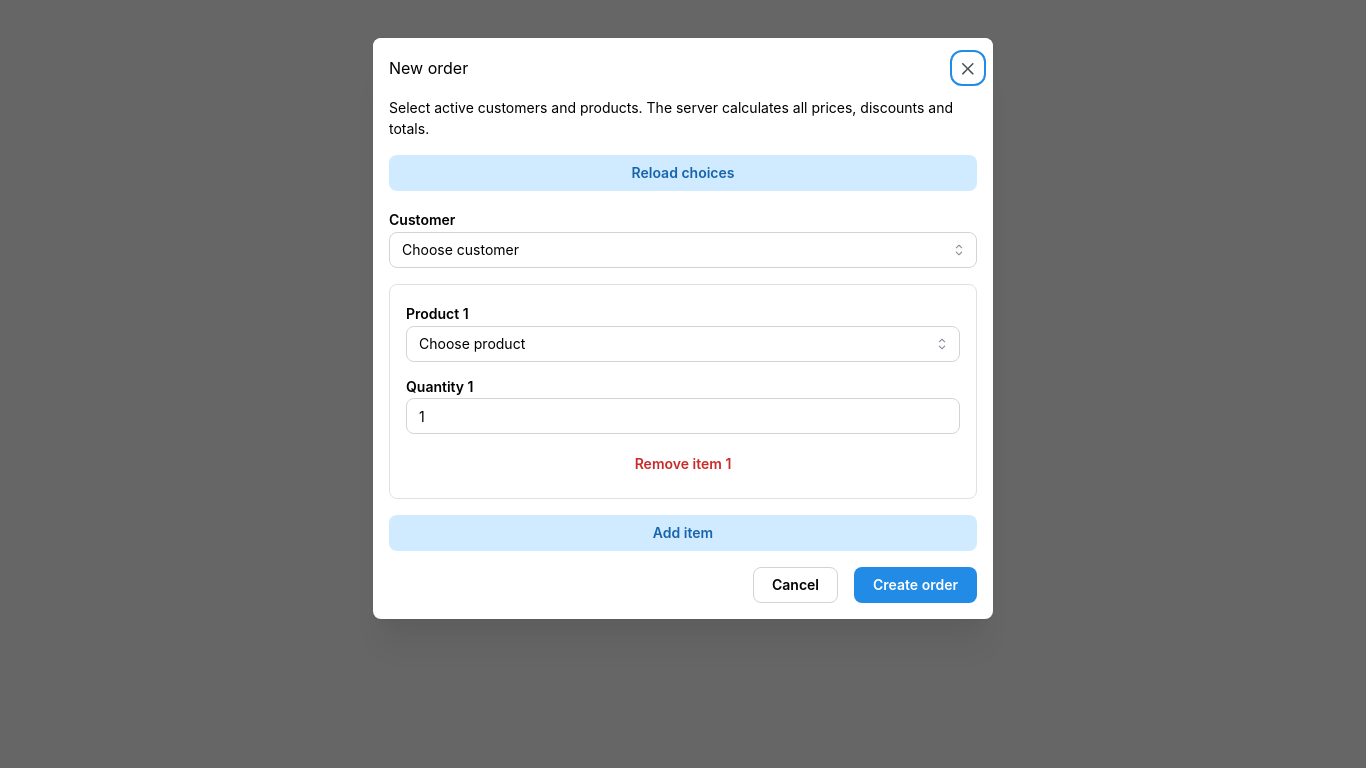
order integration › retains draft on missing creation failure without replay
Select "Current Customer (current@example.invalid)" in the dropdown labelled "Customer" at (683, 250), box [389,232,977,268]
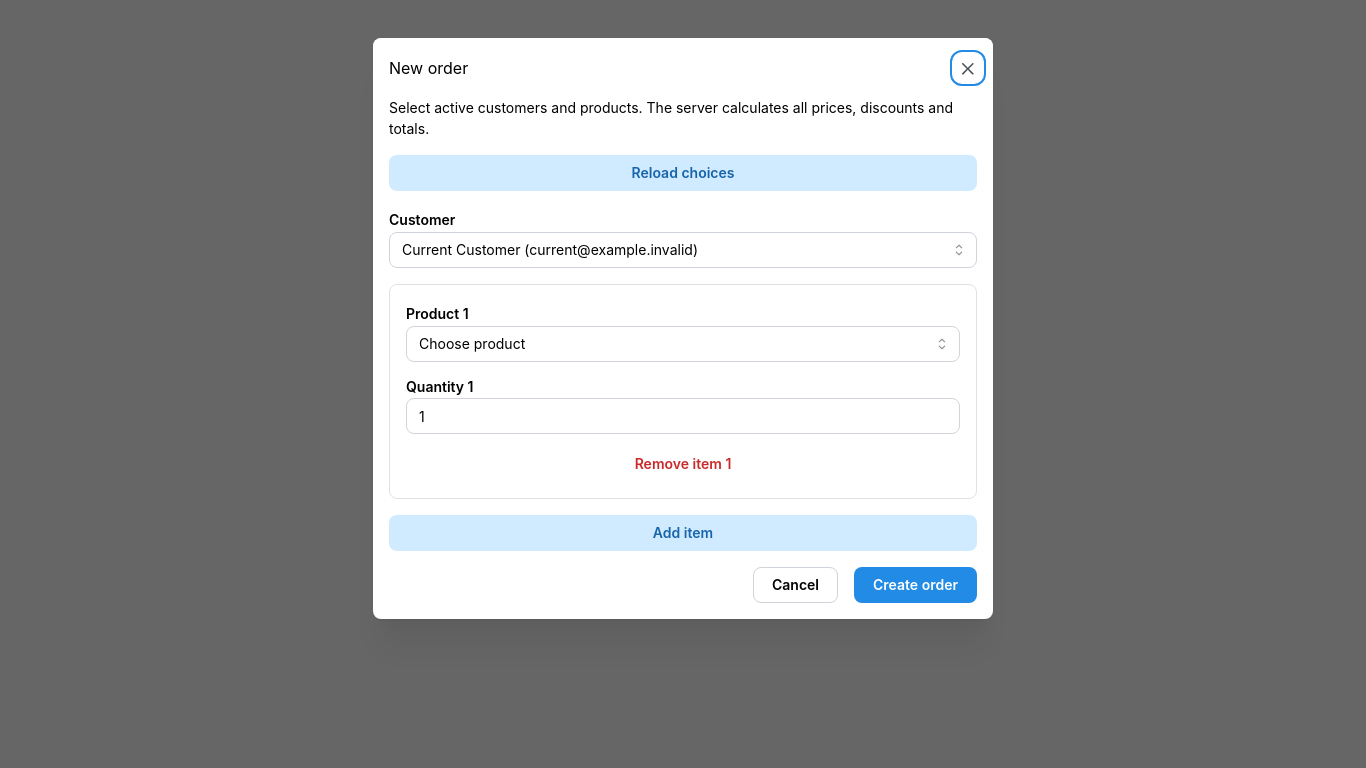
Select "Current Catalog Name" in the dropdown labelled "Product 1" at (683, 344), box [406,326,960,362]
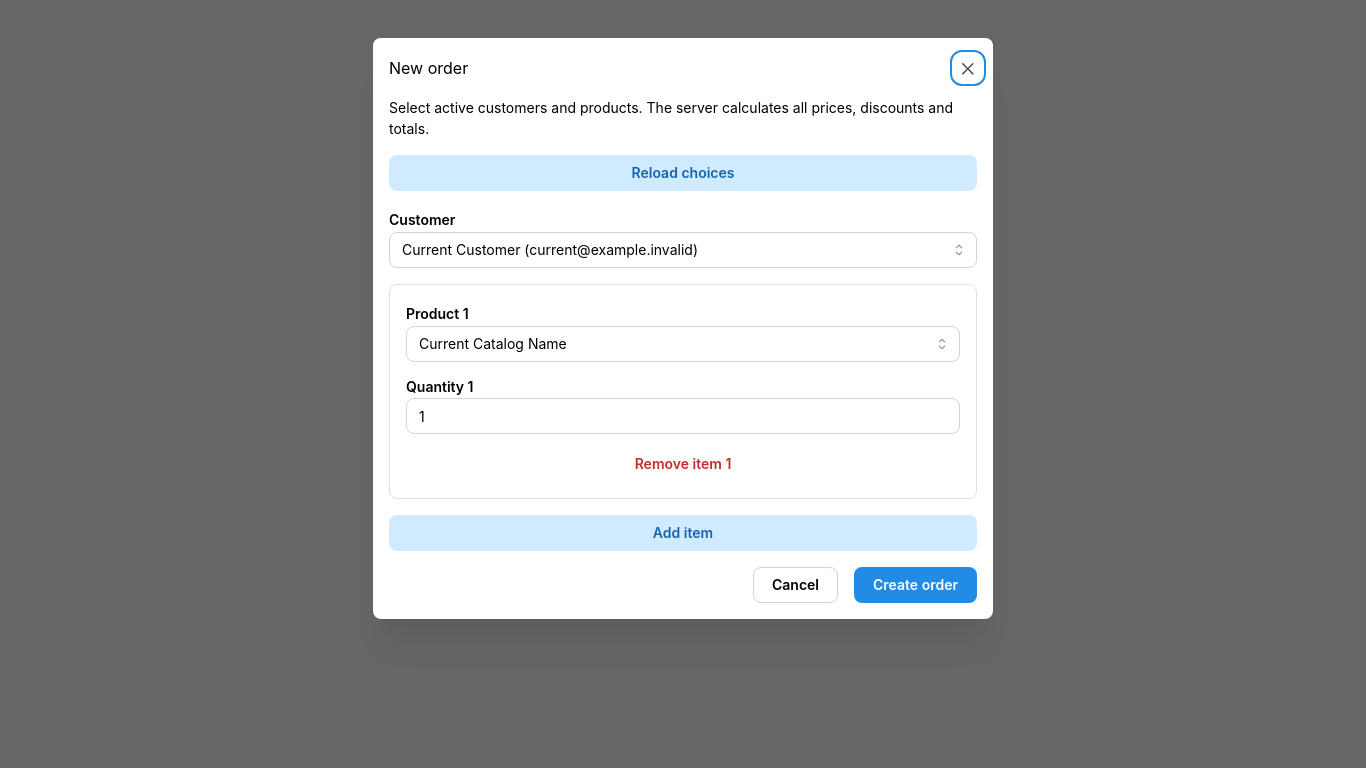
Replace the text in the field labelled "Quantity 1" with "7" at (683, 416), box [406,398,960,434]
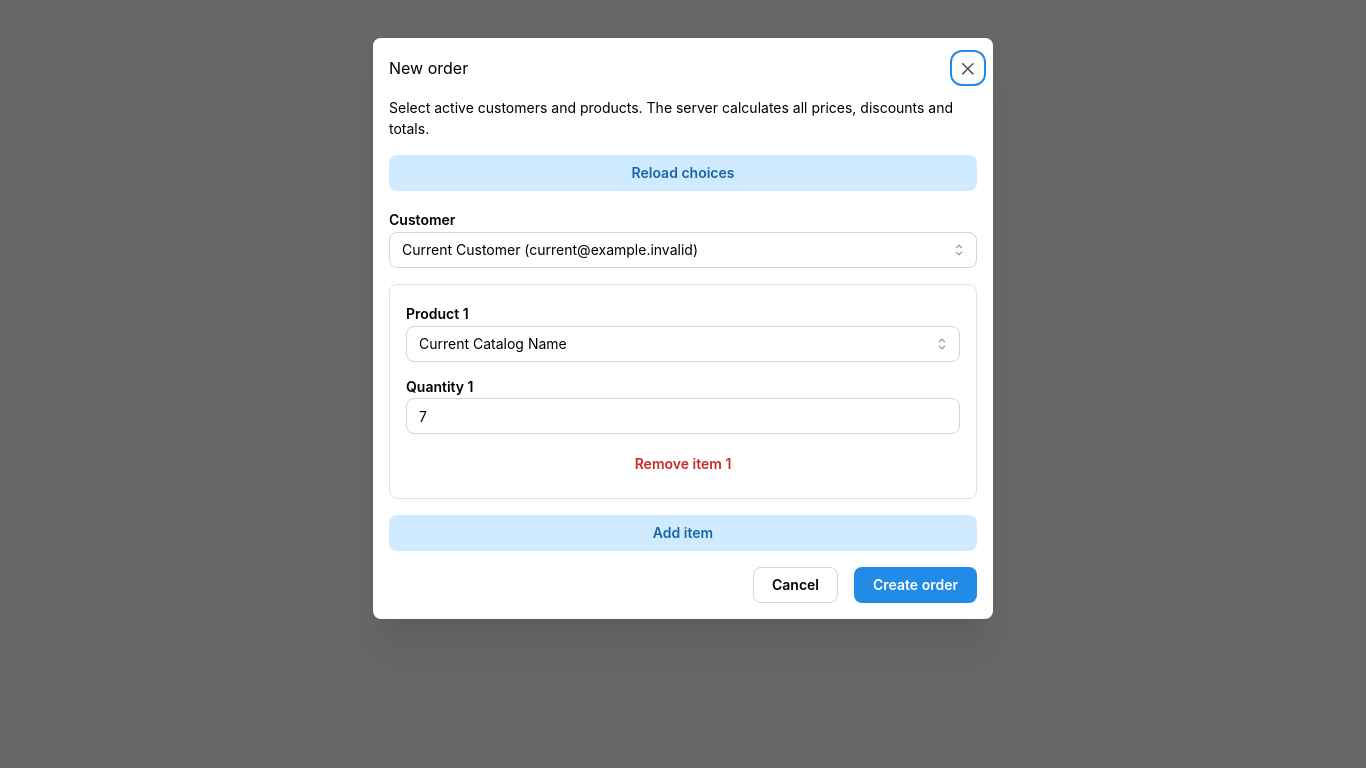
Click the button "Create order" at (916, 585), box [854,567,977,603]
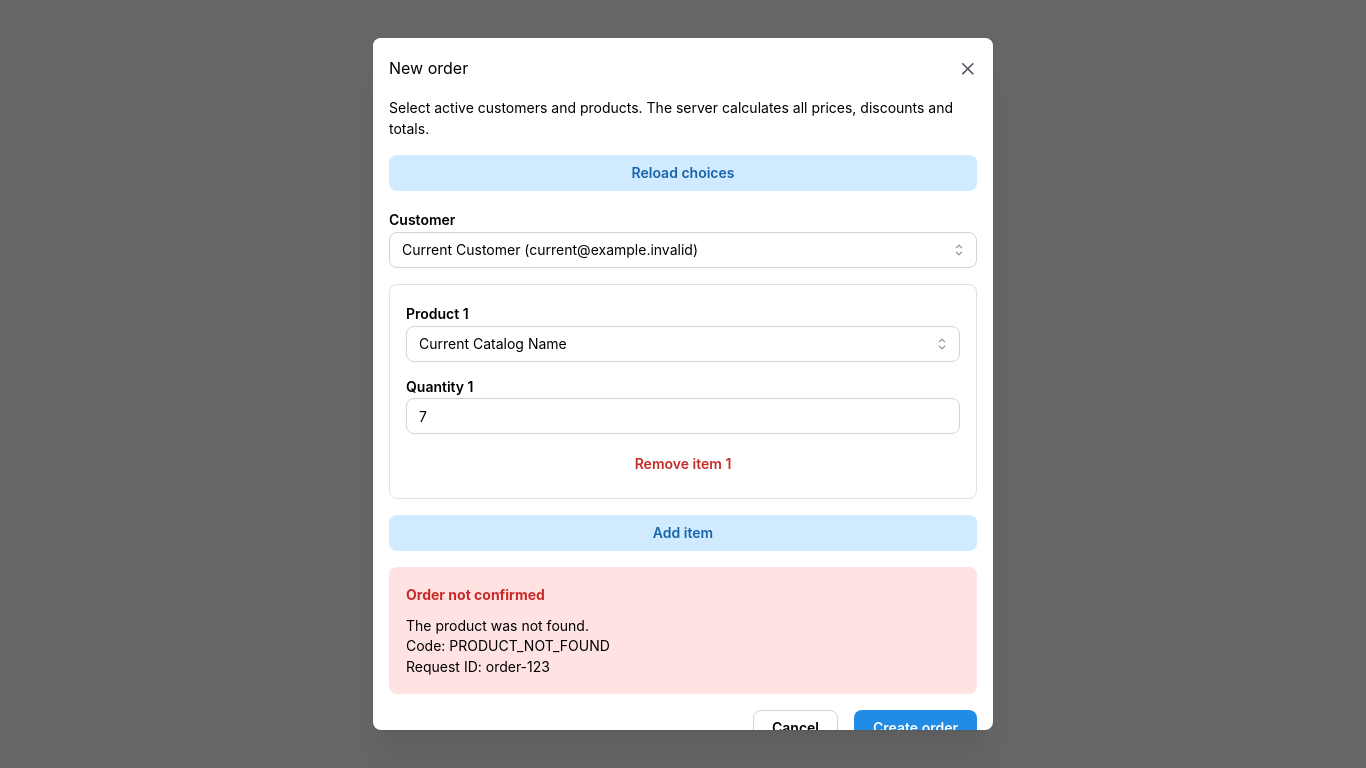
expect the message shows "PRODUCT_NOT_FOUND": met, box [449,637,610,654]
